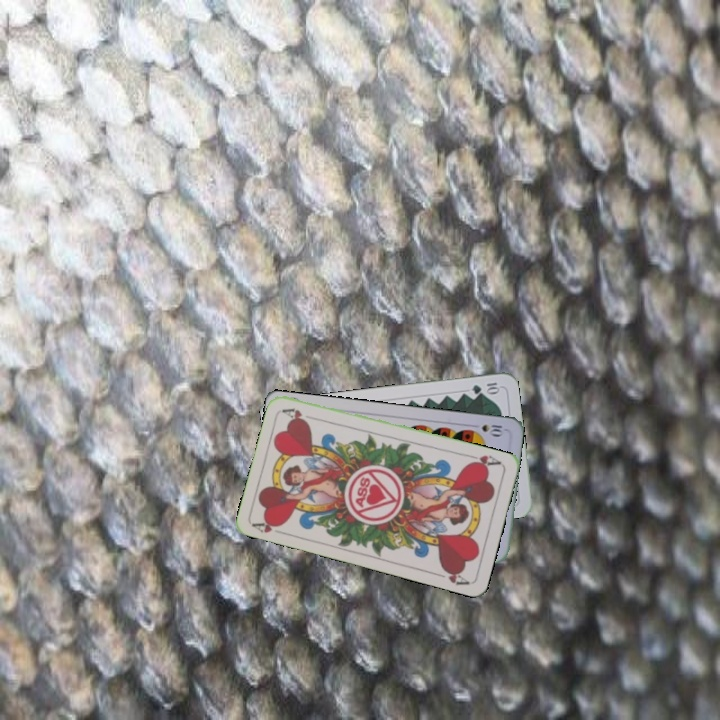G10: (468, 378, 502, 397)
HA: (249, 515, 290, 538), (463, 451, 504, 471)
S10: (467, 420, 506, 438)
